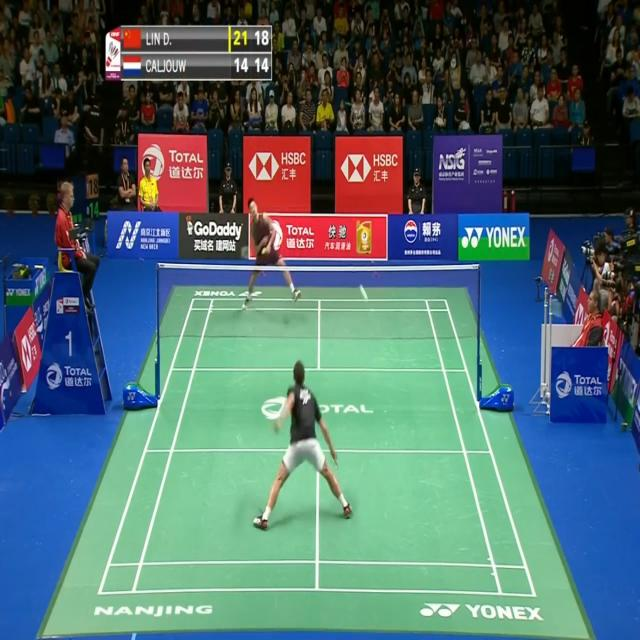Player1: (250, 356, 360, 528)
Player2: (240, 190, 302, 321)
